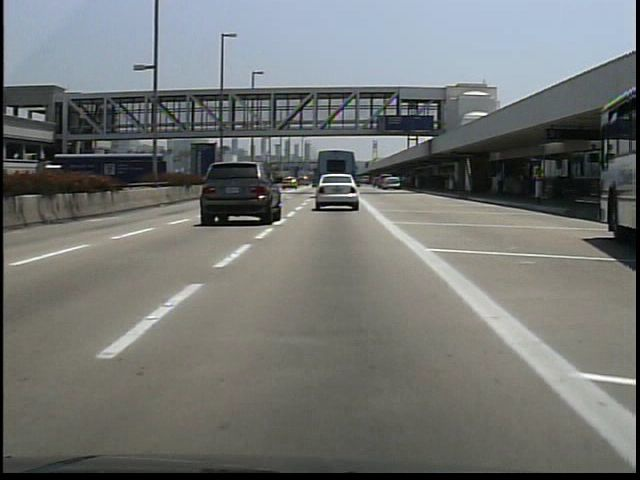person: (490, 166, 511, 204)
